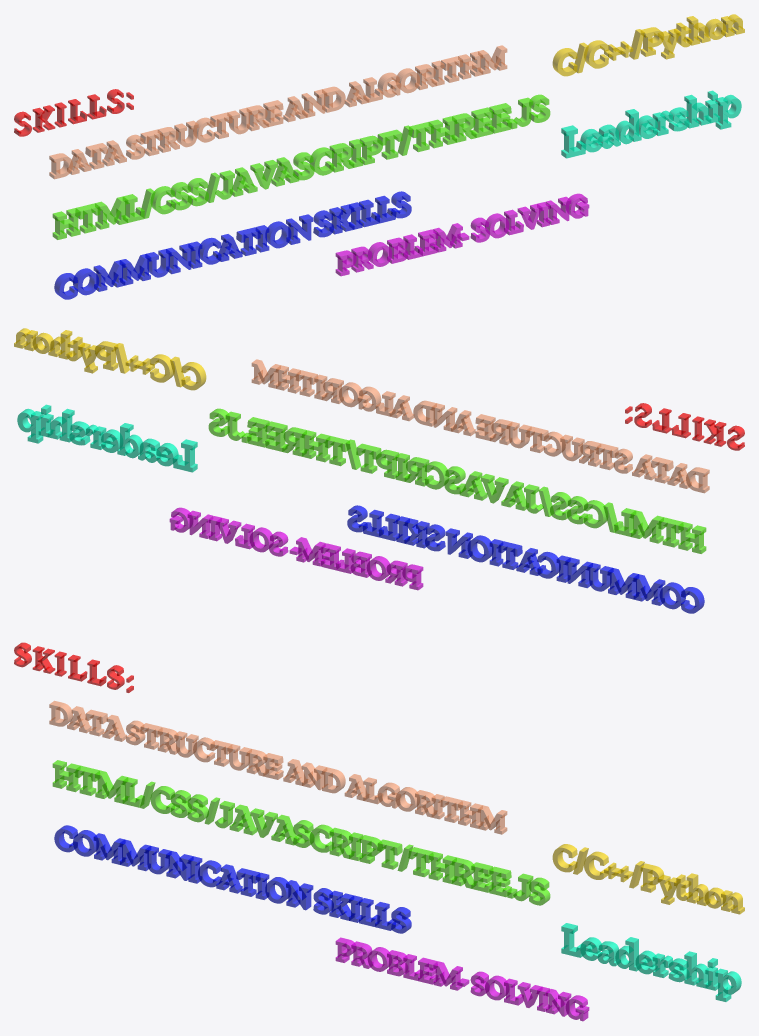
File: SKILLS.glb
3 views of the same model, one above another, from view 1: azimuth 30°, elevation 25°; view 2: azimuth 150°, elevation 25°; view 3: azimuth 330°, elevation 25° (orthographic).
Visible parts, largest first — view 1: 3D Text 3 - S (×4), 3D Text 3 - T (×3), 3D Text 3 - H (×2), 3D Text 5 - M (×2), 3D Text 5 - N (×2), 3D Text 3 - E (×2), 3D Text 3 - R (×2), 3D Text 2 - C (×2), 3D Text 5 - O (×2), 3D Text 3 - A (×2), 3D Text 3 - C (×2), 3D Text 3 - M (+16 smaller); view 2: 3D Text 3 - S (×4), 3D Text 3 - T (×3), 3D Text 3 - H (×2), 3D Text 5 - M (×2), 3D Text 5 - N (×2), 3D Text 3 - E (×2), 3D Text 3 - R (×2), 3D Text 2 - C (×2), 3D Text 5 - O (×2), 3D Text 3 - A (×2), 3D Text 3 - C (×2), 3D Text 3 - M (+16 smaller); view 3: 3D Text 3 - H (×2), 3D Text 5 - M (×2), 3D Text 3 - M, 3D Text 4 - h, 3D Text 4 - p, 3D Text 5 - N, 3D Text 4 - d.
Boxes of the visible parts, left/top/right/bottom form: 3D Text 3 - S (×4): left=171, top=94, right=550, bottom=210; 3D Text 3 - T (×3): left=75, top=122, right=433, bottom=233; 3D Text 3 - H (×2): left=52, top=116, right=456, bottom=239; 3D Text 5 - M (×2): left=93, top=254, right=151, bottom=291; 3D Text 5 - N (×2): left=166, top=214, right=313, bottom=274; 3D Text 3 - E (×2): left=471, top=103, right=511, bottom=137; 3D Text 3 - R (×2): left=329, top=113, right=476, bottom=172; 3D Text 2 - C (×2): left=552, top=40, right=608, bottom=76; 3D Text 5 - O (×2): left=73, top=221, right=291, bottom=295; 3D Text 3 - A (×2): left=230, top=157, right=299, bottom=196; 3D Text 3 - C (×2): left=151, top=147, right=334, bottom=214; 3D Text 3 - M: left=95, top=196, right=128, bottom=229; 3D Text 3 - S (×4): left=208, top=408, right=587, bottom=524; 3D Text 3 - T (×3): left=325, top=436, right=683, bottom=547; 3D Text 3 - H (×2): left=302, top=430, right=706, bottom=553; 3D Text 5 - M (×2): left=608, top=568, right=665, bottom=605; 3D Text 5 - N (×2): left=445, top=528, right=592, bottom=588; 3D Text 3 - E (×2): left=247, top=417, right=287, bottom=451; 3D Text 3 - R (×2): left=282, top=427, right=429, bottom=486; 3D Text 2 - C (×2): left=150, top=354, right=206, bottom=390; 3D Text 5 - O (×2): left=467, top=535, right=685, bottom=609; 3D Text 3 - A (×2): left=459, top=471, right=528, bottom=510; 3D Text 3 - C (×2): left=424, top=461, right=607, bottom=528; 3D Text 3 - M: left=630, top=510, right=663, bottom=543; 3D Text 3 - H (×2): left=52, top=760, right=456, bottom=883; 3D Text 5 - M (×2): left=93, top=833, right=150, bottom=871; 3D Text 3 - M: left=95, top=770, right=127, bottom=803; 3D Text 4 - h: left=684, top=951, right=710, bottom=988; 3D Text 4 - p: left=715, top=968, right=741, bottom=1001; 3D Text 5 - N: left=286, top=880, right=313, bottom=910; 3D Text 4 - d: left=615, top=937, right=640, bottom=971.
Size of the model in its own units: 1.24 by 0.3885 by 0.015.
